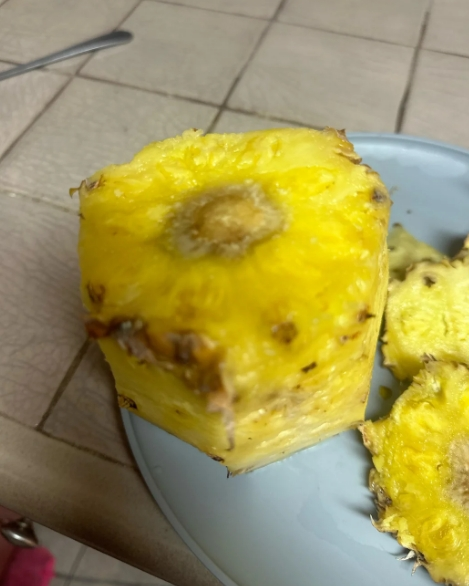rotten pineapple: (63, 120, 392, 473)
